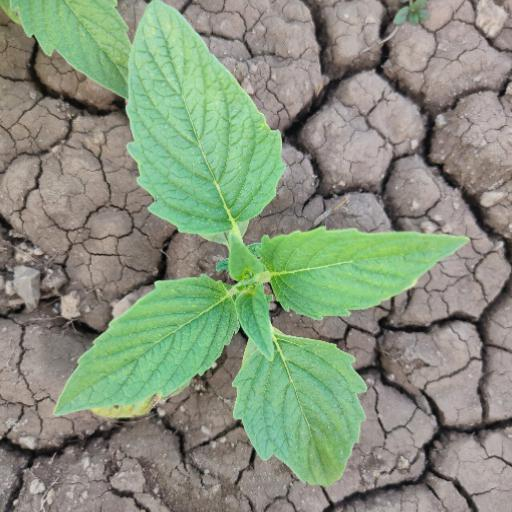crop: (42, 10, 484, 483)
